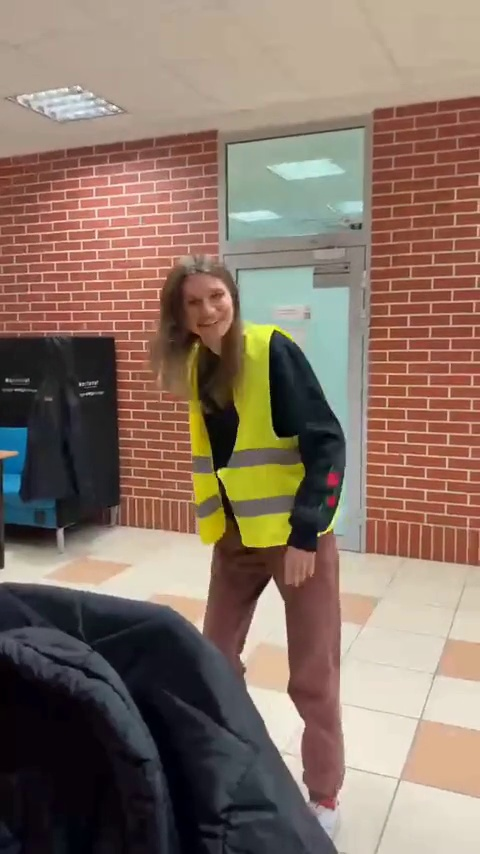vest: (151, 256, 362, 824)
